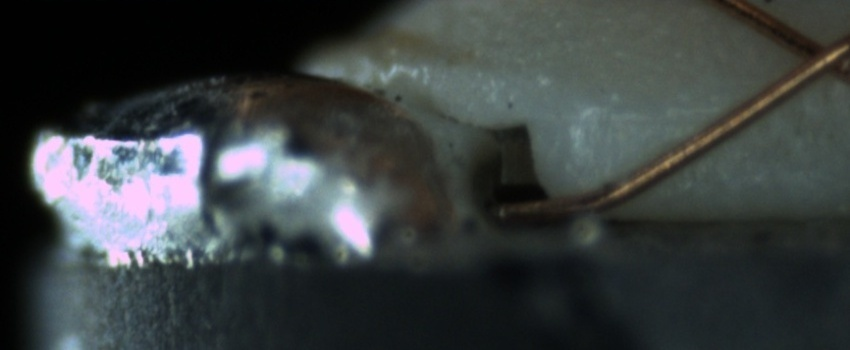CL: (777, 19, 847, 92)
DL: (589, 84, 740, 147)
